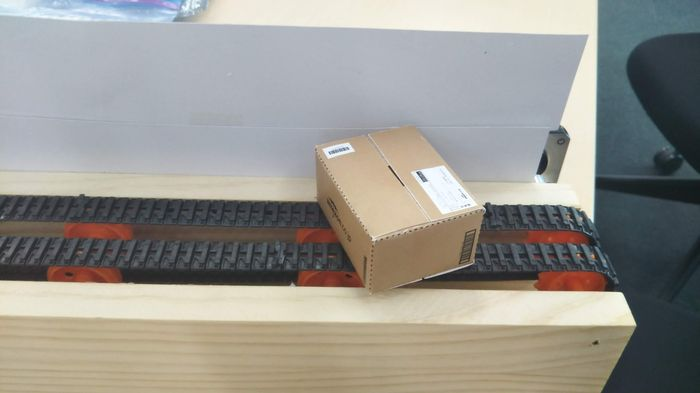box1: (311, 120, 490, 294)
